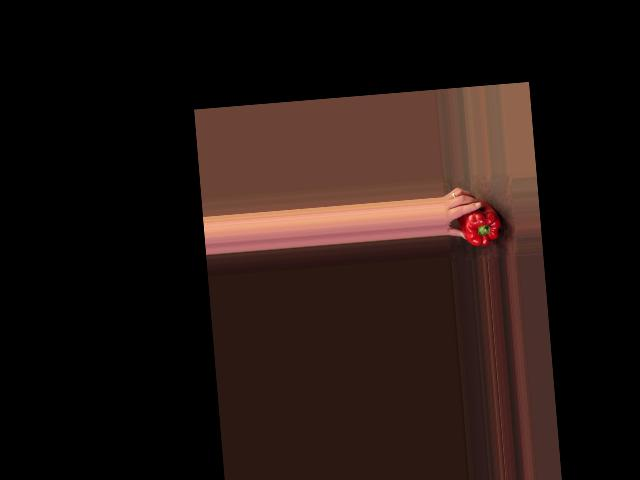bell_pepper: (458, 201, 503, 248)
